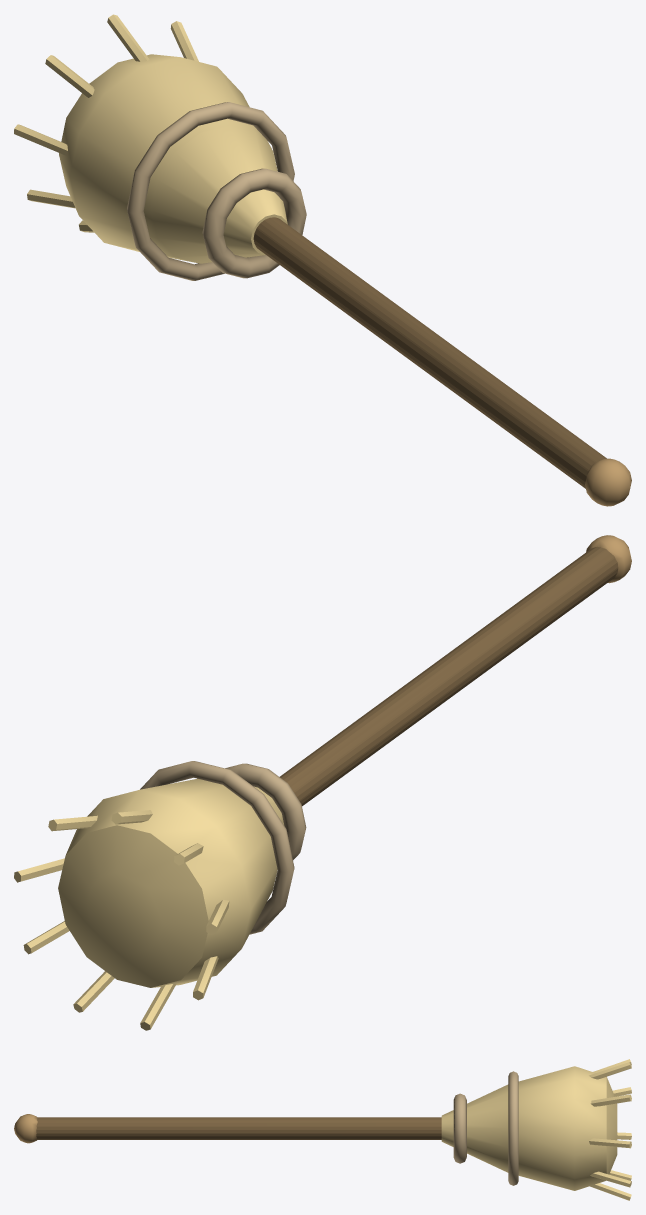
File: broom.glb
The picture shows the model from 3 angles, top to bottom: view 1: azimuth 30°, elevation 25°; view 2: azimuth 150°, elevation 25°; view 3: azimuth 270°, elevation 25°; orthographic projection. The views are drawn at different scales.
Visible parts, largest first — view 1: Broom; view 2: Broom; view 3: Broom.
Part boxes in pixels (x1=…): Broom: x1=14, y1=14, x2=631, y2=506; Broom: x1=14, y1=535, x2=631, y2=1030; Broom: x1=14, y1=1059, x2=631, y2=1200.
Bounding box in the file's own units: 0.5349 × 0.5327 × 2.32.
